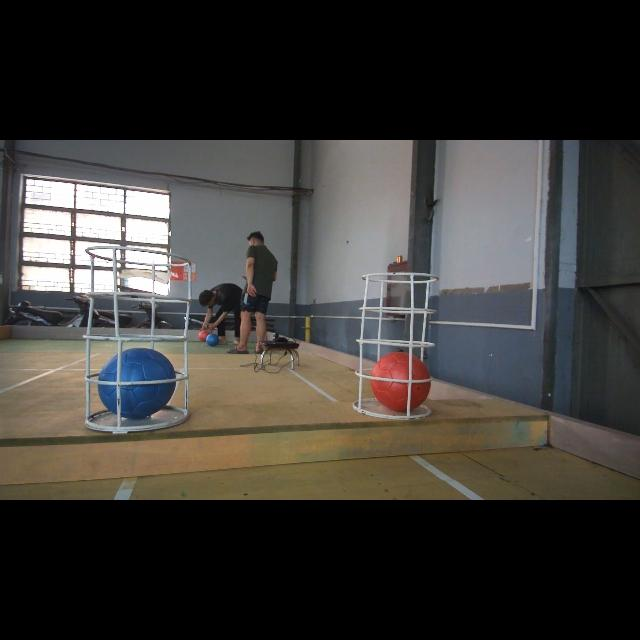B: (98, 348, 176, 422)
R: (368, 352, 434, 414)
